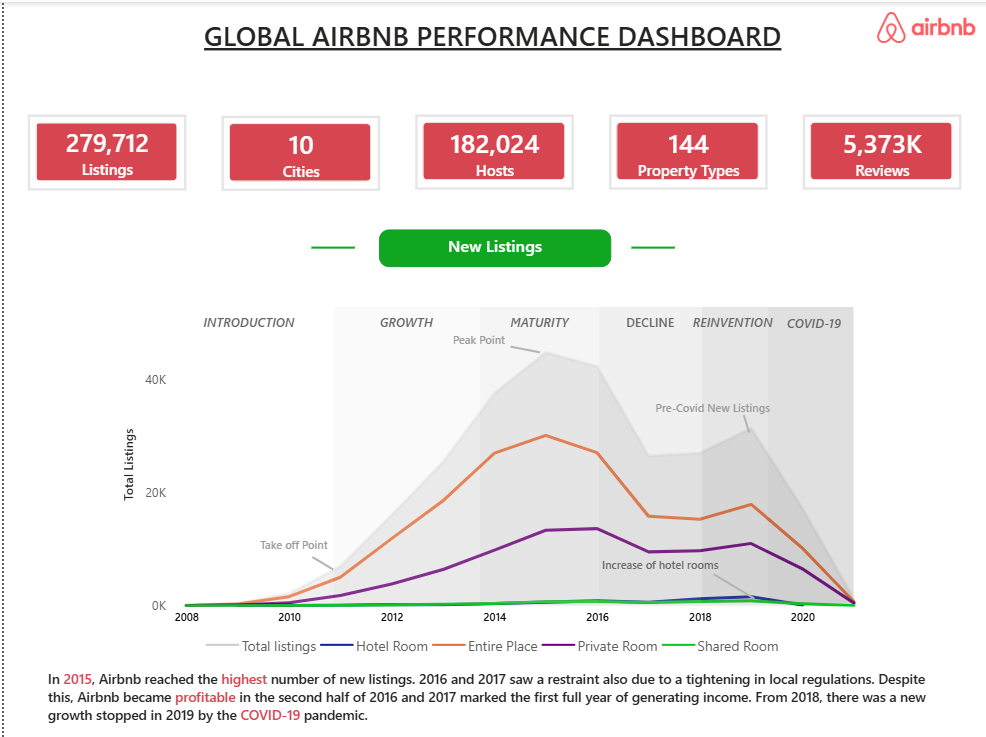

Layout of this report page (visuals, bound fields, positions):
{"tool":"powerbi","page":{"name":"Overview","canvas":[960,720],"ordinal":0},"visuals":[{"type":"textbox","box":[191.2,10,578.8,47.5],"z":0},{"type":"image","box":[843.8,10,116.2,30],"z":1000},{"type":"cardVisual","fields":{"Data":["CountNonNull(Listings.listing_id)"]},"box":[23.8,110,155,74],"z":2000},{"type":"cardVisual","fields":{"Data":["Count(Reviews.review_id)"]},"box":[781.2,110,155,73.8],"z":3000},{"type":"cardVisual","fields":{"Data":["Count(Listings.property_type)"]},"box":[591.9,110,155,73.8],"z":4000},{"type":"cardVisual","fields":{"Data":["Count(Listings.host_id)"]},"box":[402.5,110,155,73.8],"z":5000},{"type":"cardVisual","fields":{"Data":["Count(Listings.city)"]},"box":[213.1,111.2,155,73.8],"z":6000},{"type":"lineChart","fields":{"Category":["Listings.host_since.Variation.Date Hierarchy.Year"],"Y":["CountNonNull(Listings.listing_id)","Listings.Hotel Room","Listings.Entire Place","Listings.Private Room","Listings.Shared Room"]},"box":[112.5,300.8,736.1,347.3],"z":7000},{"type":"textbox","box":[366.3,222.6,227.4,36.7],"z":8000},{"type":"shape","box":[300.8,216.4,42.8,47.7],"z":9000},{"type":"shape","box":[613.9,216.4,42.8,47.7],"z":10000},{"type":"shape","box":[178.5,300.8,144.3,287.4],"z":11000},{"type":"shape","box":[322.8,298.4,143.1,289.8],"z":12000},{"type":"shape","box":[465.9,298.4,116.2,289.8],"z":13000},{"type":"shape","box":[582.1,298.4,100.3,289.8],"z":14000},{"type":"shape","box":[682.3,298.4,64.8,289.8],"z":15000},{"type":"shape","box":[747.2,298.4,84.4,289.8],"z":16000},{"type":"textbox","box":[37.9,648.1,886.6,63.6],"z":17000},{"type":"textbox","box":[155.3,326.5,157.7,9.8],"z":18000},{"type":"textbox","box":[178.5,298.4,122.3,28.1],"z":19000},{"type":"textbox","box":[321.6,298.4,144.3,33],"z":20000},{"type":"textbox","box":[465.9,298.4,116.2,33],"z":21000},{"type":"textbox","box":[582.1,298.4,100.3,28.1],"z":22000},{"type":"textbox","box":[656.7,298.4,112.5,46.5],"z":23000},{"type":"textbox","box":[753.3,299.6,78.3,36.7],"z":24000},{"type":"textbox","box":[161.4,516,160.2,39.1],"z":25000},{"type":"shape","box":[300.8,533.2,22,31.8],"z":26000},{"type":"textbox","box":[594.3,381.5,198.1,31.8],"z":27000},{"type":"shape","box":[699.5,403.5,53.8,18.3],"z":28000},{"type":"textbox","box":[557.6,535.6,168.8,37.9],"z":29000},{"type":"shape","box":[693.3,555.2,41.6,33],"z":30000},{"type":"textbox","box":[393.8,315.5,141.8,37.9],"z":31000},{"type":"shape","box":[495.2,326.5,29.3,26.9],"z":32000}]}

Visuals, with their boxes in screenshot pixels (x1, y1, x2, y2), scaled from the page's 960x720 canvas onto the 986x737 screenshot:
textbox: bbox(196, 10, 791, 59)
image: bbox(867, 10, 985, 41)
cardVisual - CountNonNull(Listings.listing_id): bbox(24, 113, 184, 188)
cardVisual - Count(Reviews.review_id): bbox(802, 113, 962, 188)
cardVisual - Count(Listings.property_type): bbox(608, 113, 767, 188)
cardVisual - Count(Listings.host_id): bbox(413, 113, 573, 188)
cardVisual - Count(Listings.city): bbox(219, 114, 378, 189)
lineChart - Listings.host_since.Variation.Date Hierarchy.Year x CountNonNull(Listings.listing_id): bbox(116, 308, 872, 663)
textbox: bbox(376, 228, 610, 265)
shape: bbox(309, 222, 353, 270)
shape: bbox(631, 222, 674, 270)
shape: bbox(183, 308, 332, 602)
shape: bbox(332, 305, 479, 602)
shape: bbox(479, 305, 598, 602)
shape: bbox(598, 305, 701, 602)
shape: bbox(701, 305, 767, 602)
shape: bbox(767, 305, 854, 602)
textbox: bbox(39, 663, 950, 729)
textbox: bbox(160, 334, 321, 344)
textbox: bbox(183, 305, 309, 334)
textbox: bbox(330, 305, 479, 339)
textbox: bbox(479, 305, 598, 339)
textbox: bbox(598, 305, 701, 334)
textbox: bbox(674, 305, 790, 353)
textbox: bbox(774, 307, 854, 344)
textbox: bbox(166, 528, 330, 568)
shape: bbox(309, 546, 332, 578)
textbox: bbox(610, 391, 814, 423)
shape: bbox(718, 413, 774, 432)
textbox: bbox(573, 548, 746, 587)
shape: bbox(712, 568, 755, 602)
textbox: bbox(404, 323, 550, 362)
shape: bbox(509, 334, 539, 362)
